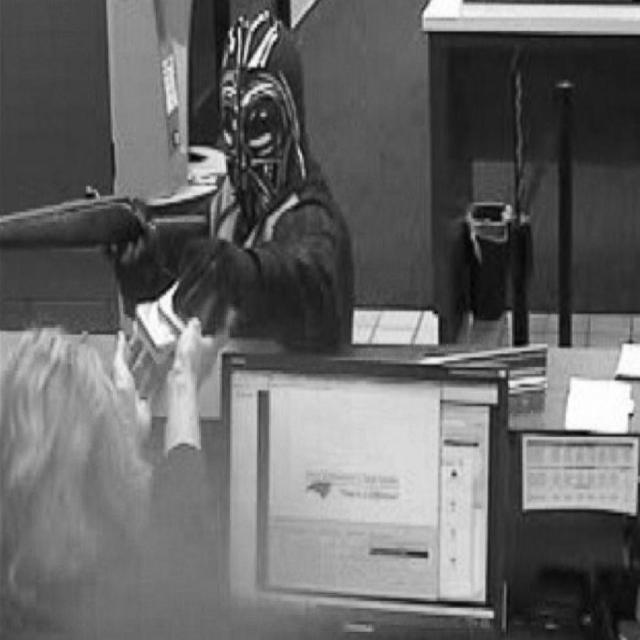gun: (0, 182, 206, 311)
